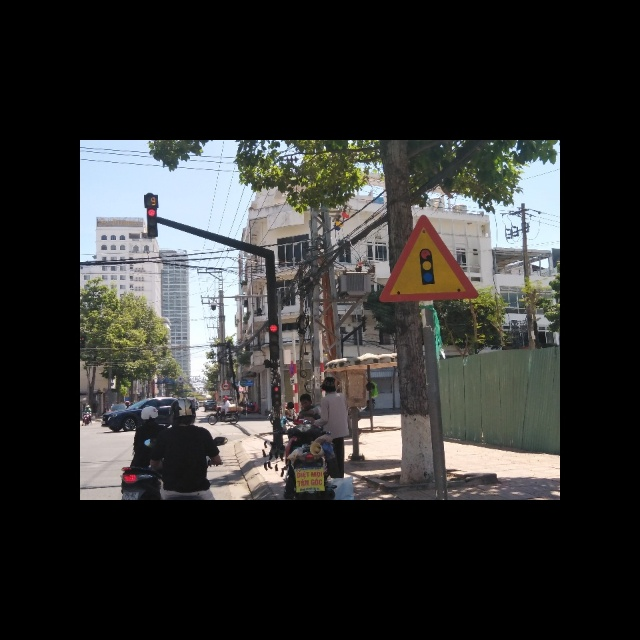Giao nhau có tín hiệu đèn: (379, 211, 480, 305)
Đèn đỏ: (269, 323, 279, 332)
